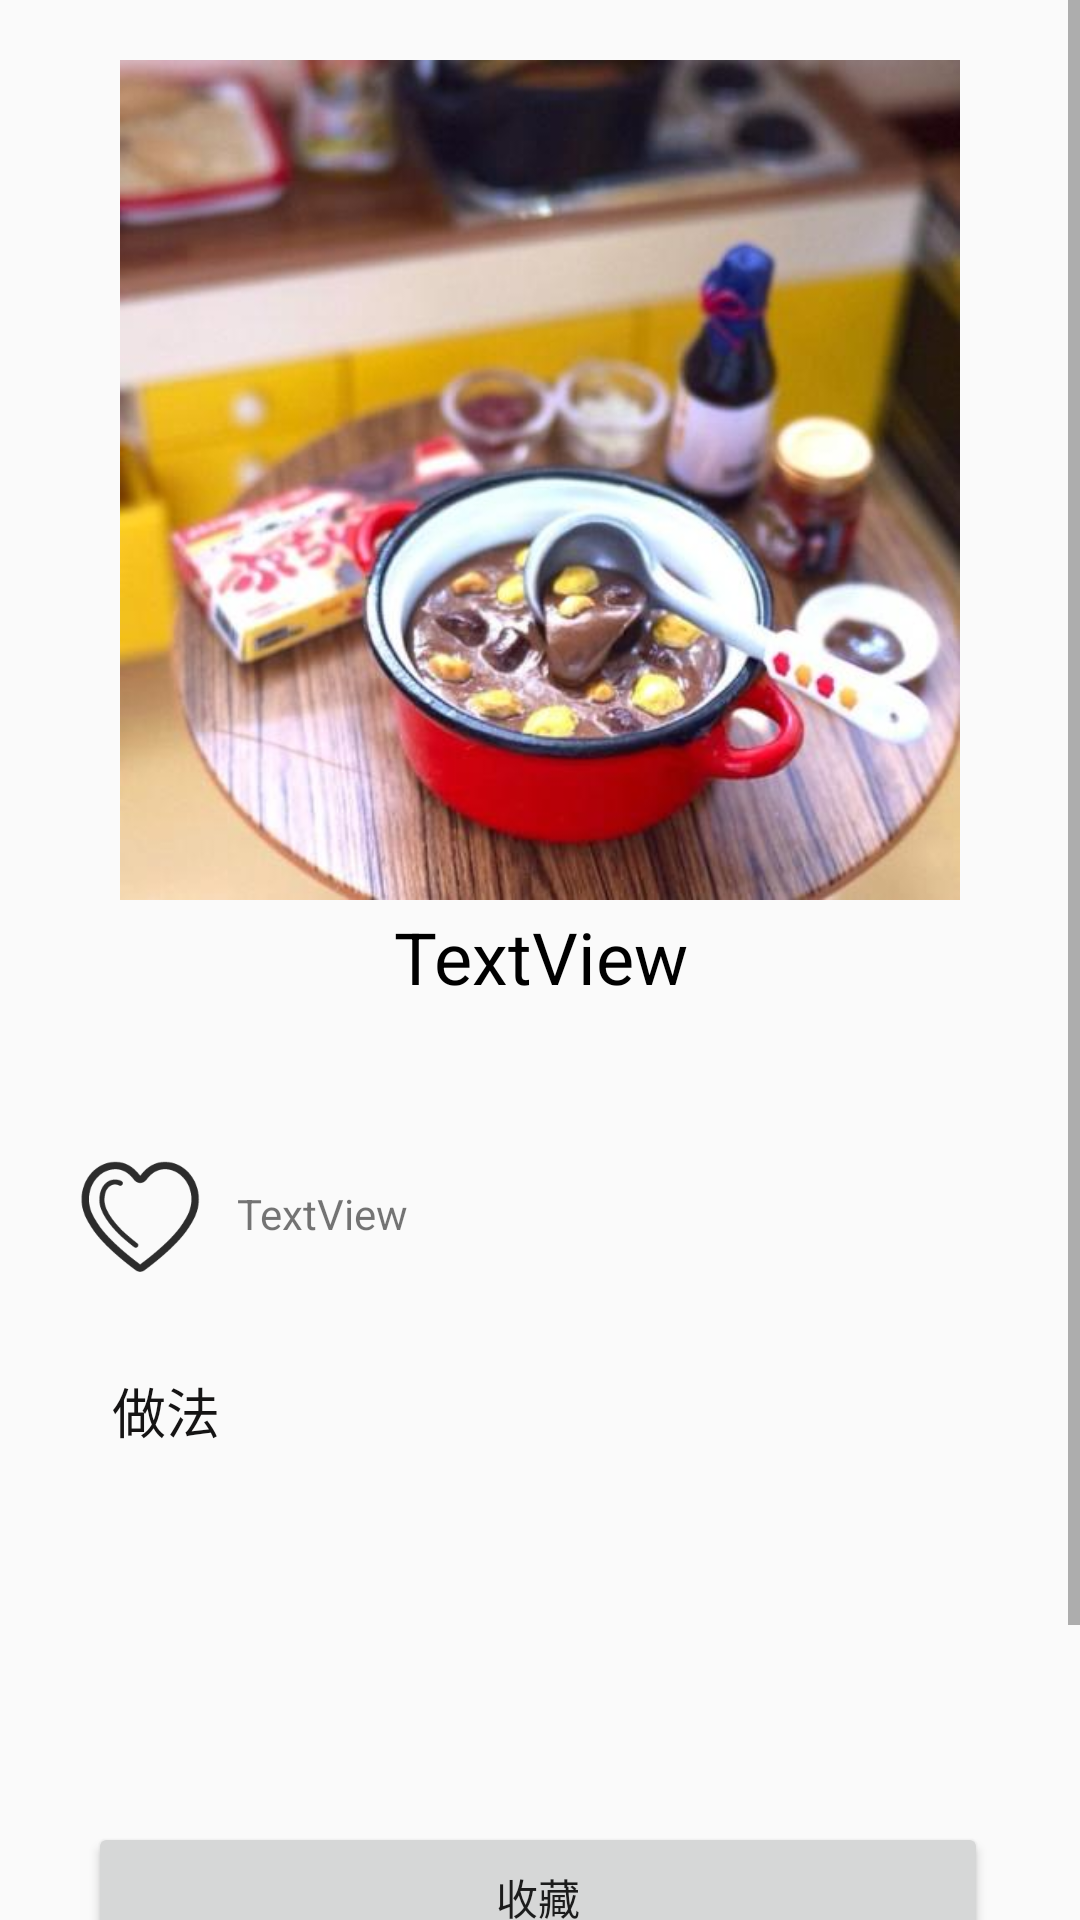

Named icons in this screenshot (1080px×1920px) and their centers, point (x, y):
hear: point (140, 1216)
